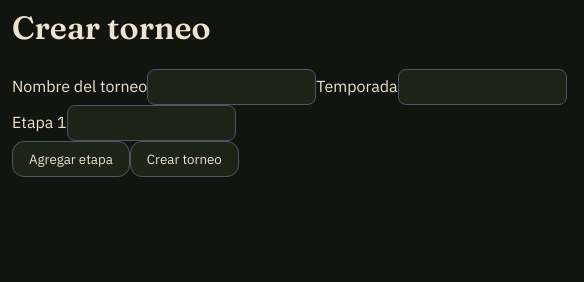
TournamentAdminPage › muestra un error cuando falla la creacion del torneo
Type "Liga AUF 2026" into the field labelled "Nombre del torneo".
click(232, 87); type("Liga AUF 2026")  # box [147,69,316,105]
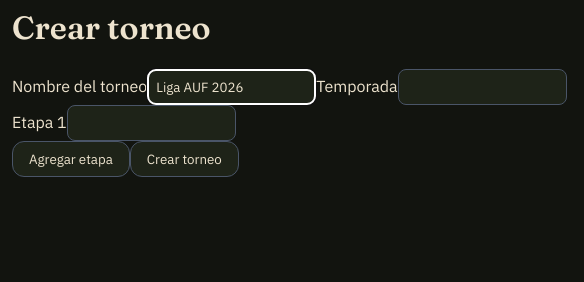
Type "2026" into the field labelled "Temporada".
click(482, 87); type("2026")  # box [398,69,567,105]
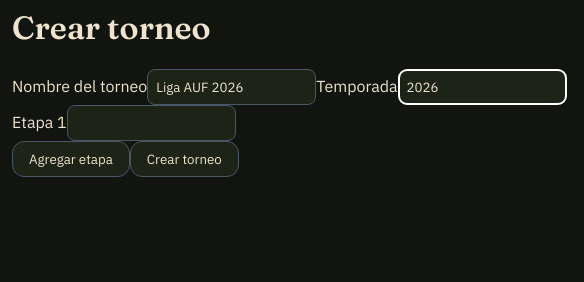
Type "Apertura" into the field labelled "Etapa 1".
click(151, 123); type("Apertura")  # box [67,105,236,141]
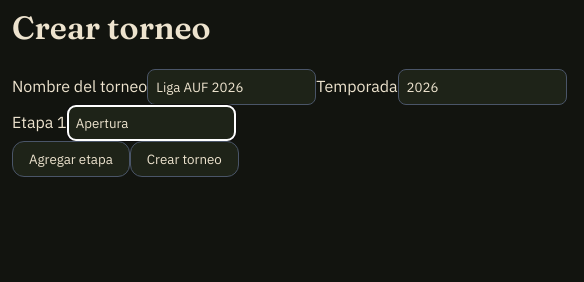
Click the button "Crear torneo".
click(184, 159)  # box [130,141,239,177]
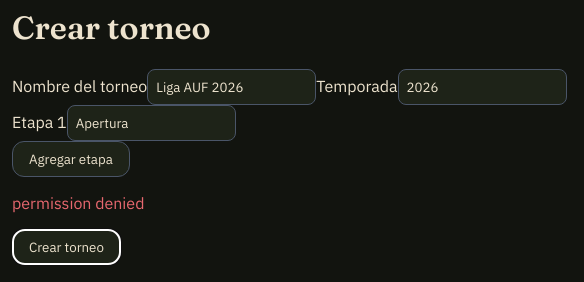
Expected: the text "permission denied" is shown, [12,193,144,213]
